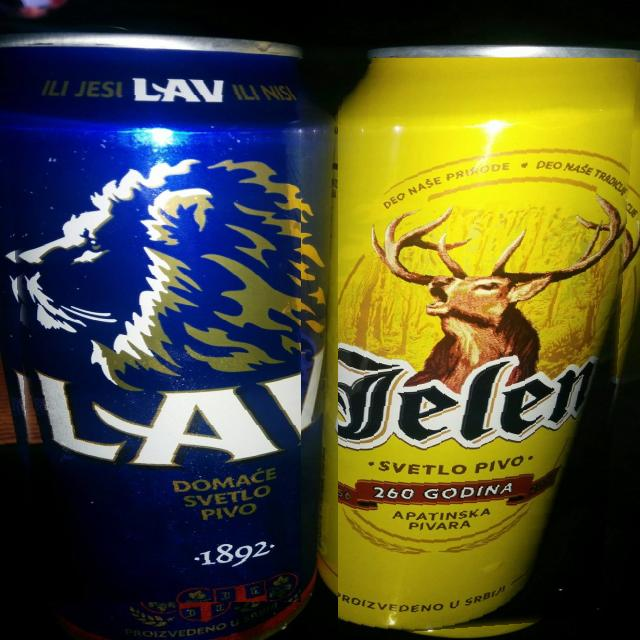Cans: (338, 58, 639, 640), (2, 42, 302, 602)
